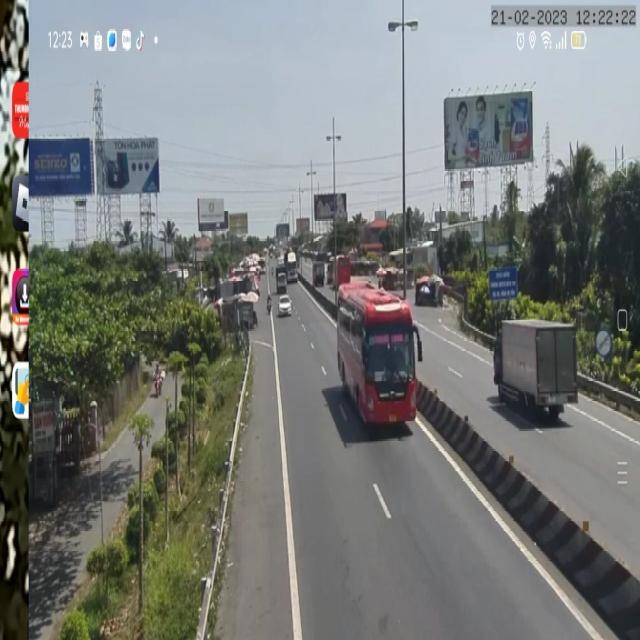bus: (334, 278, 421, 427), (331, 252, 351, 289)
car: (276, 296, 292, 317)
truck: (492, 321, 578, 425), (284, 250, 298, 285), (275, 259, 287, 294)
